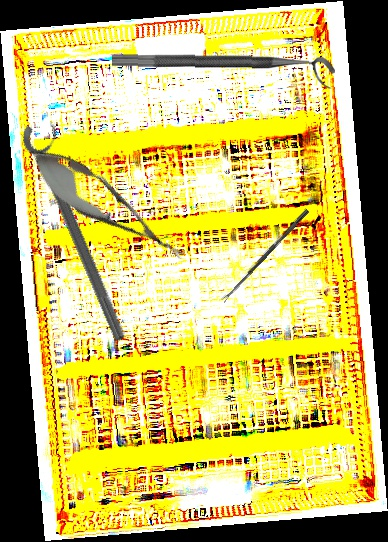Fixation Ring: (17, 114, 145, 346), (111, 53, 336, 89)
Micro Scissor: (16, 133, 196, 277)
Surgical Spoon: (220, 208, 310, 303)
